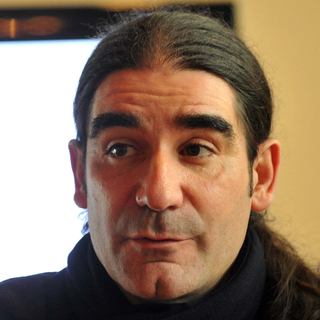eye: (176, 136, 222, 164), (100, 138, 142, 162)
